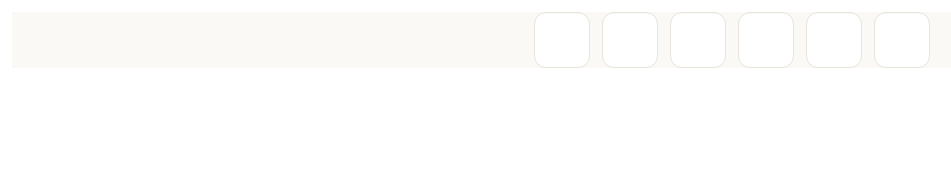
it: OtpInput › avance automatiquement d'une case à l'autre
Step 1. Click the field named "Code 1/6" → (562, 40), box [534,12,590,68]
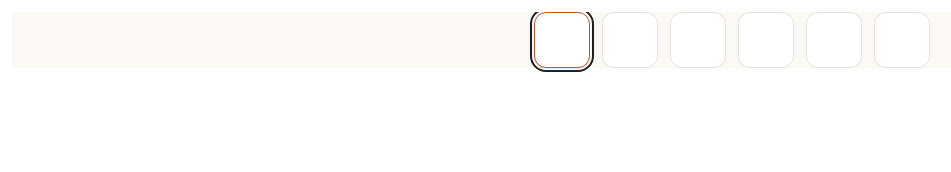
Step 2. Type keys "482193"
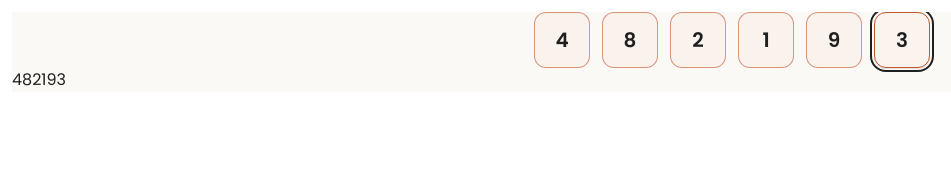
expect the text with test id "value" reads "482193": met, box [12,68,66,91]
